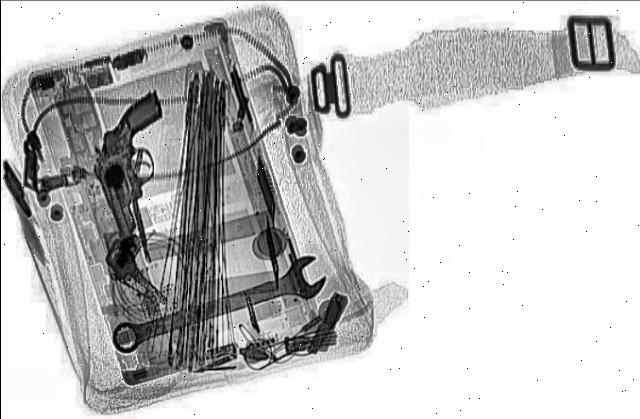Gun: (70, 90, 202, 236)
Wrench: (91, 251, 339, 357)
